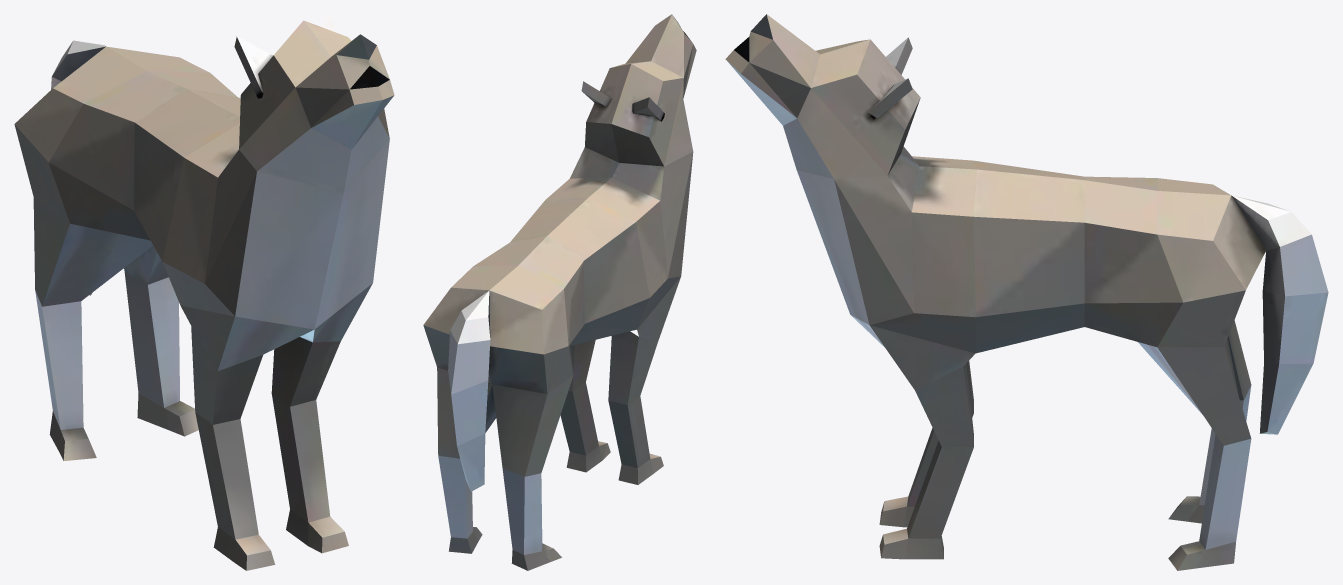
The model's file is animals-wolf-214.glb.
The picture shows the model from 3 angles, left to right: view 1: azimuth 30°, elevation 25°; view 2: azimuth 150°, elevation 25°; view 3: azimuth 270°, elevation 25°; orthographic projection. The views are drawn at different scales.
Parts seen in each view (by area): view 1: wolf; view 2: wolf; view 3: wolf.
Part boxes in pixels (left/top/right/bottom): wolf: left=14, top=14, right=394, bottom=570; wolf: left=423, top=14, right=696, bottom=570; wolf: left=725, top=14, right=1328, bottom=570.
Size of the model in its own units: 0.5176 by 1.69 by 1.76.
1 material, 1 textured.
